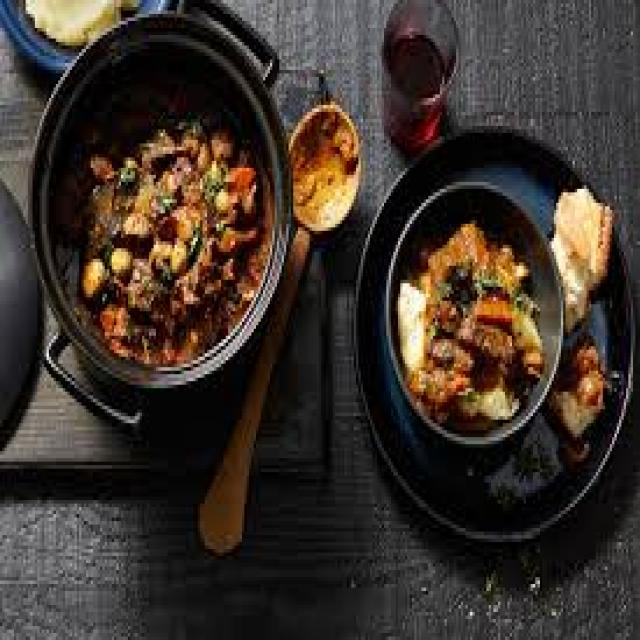Organik: (58, 94, 236, 329), (412, 218, 534, 418), (549, 193, 607, 325), (566, 351, 607, 435)
